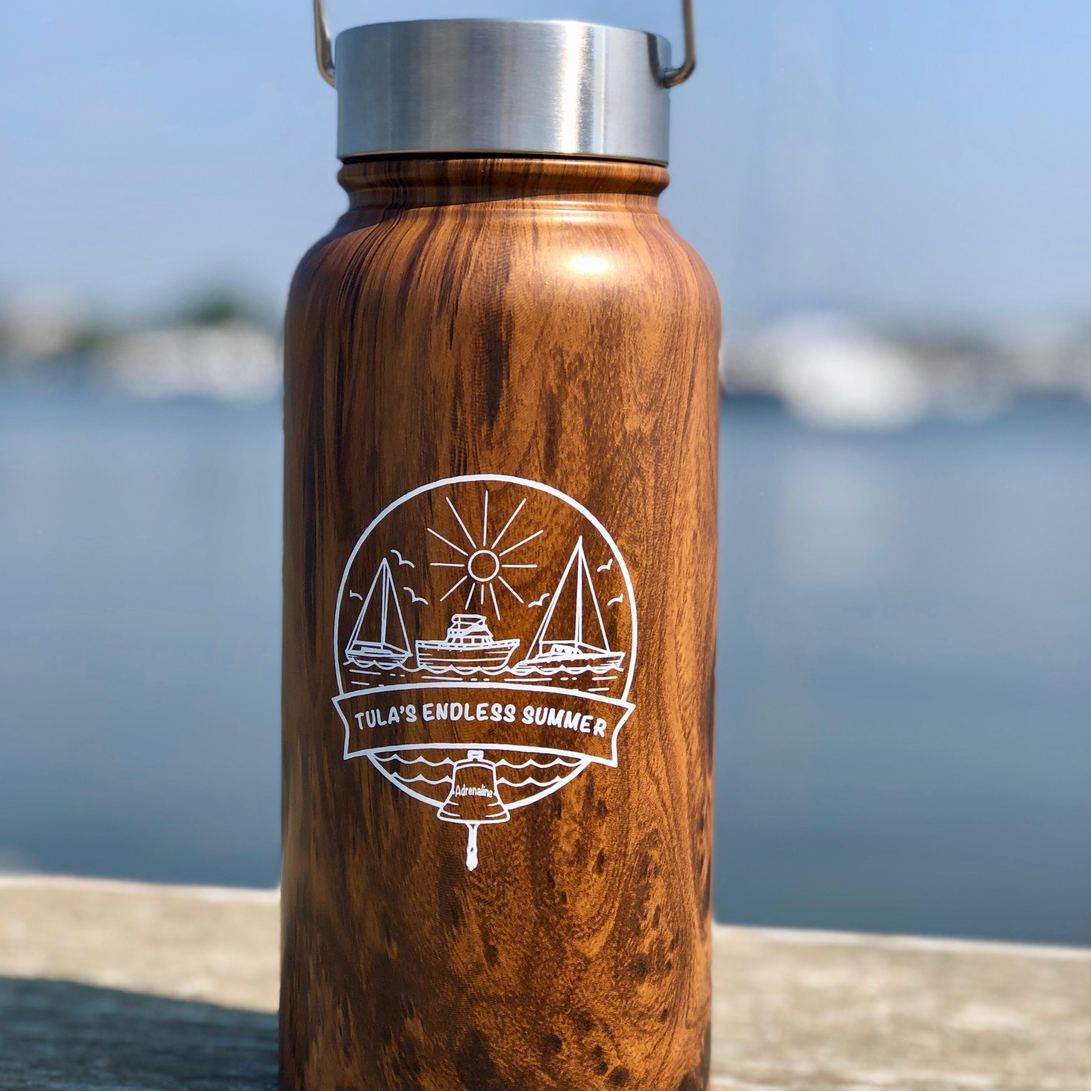gym bottle: (271, 0, 728, 1091)
